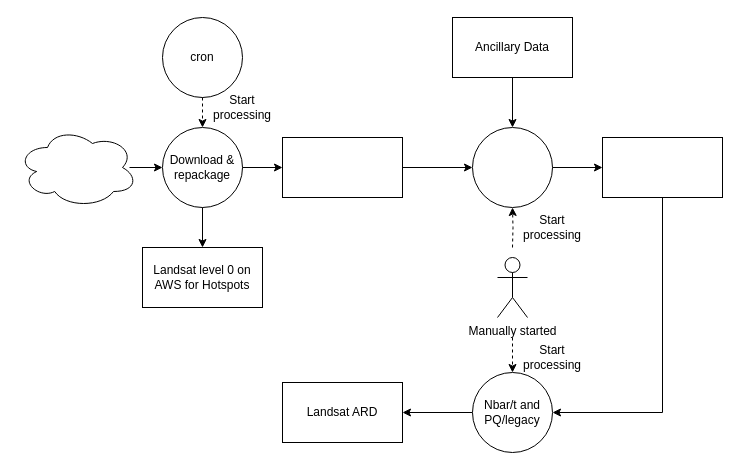
Some shapes in this 740 by 470 pixel diagram are drawn without their labels. Here are the shapes that lost their labels. From the top down, the centre of each, then its label:
At (77,167): "USGS Landsat Level 0".
At (342,167): "Landsat level 0 on NCI".
At (512,167): "landsat processor L0 to L1".
At (662,167): "Landsat level 1 on NCI".
